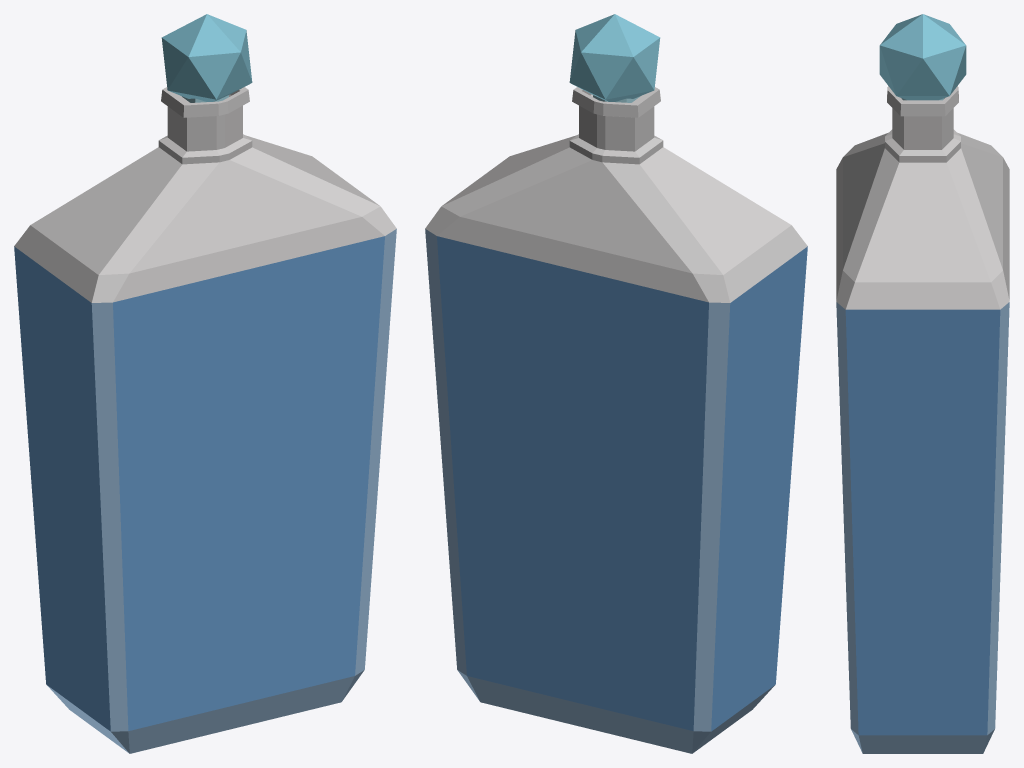
File: WF_LP_HT_Props_PotionBottle.012.fbx
3 renders of one model, left to right at view 1: azimuth 30°, elevation 25°; view 2: azimuth 150°, elevation 25°; view 3: azimuth 270°, elevation 25°, orthographic.
Visible parts, largest first — view 1: WF_LP_HT_Props_PotionBottle.012; view 2: WF_LP_HT_Props_PotionBottle.012; view 3: WF_LP_HT_Props_PotionBottle.012.
Part boxes in pixels (x1=…): WF_LP_HT_Props_PotionBottle.012: x1=14, y1=14, x2=396, y2=753; WF_LP_HT_Props_PotionBottle.012: x1=425, y1=14, x2=807, y2=753; WF_LP_HT_Props_PotionBottle.012: x1=836, y1=14, x2=1009, y2=753.
Size of the model in its own units: 0.1984 by 0.4298 by 0.098.
